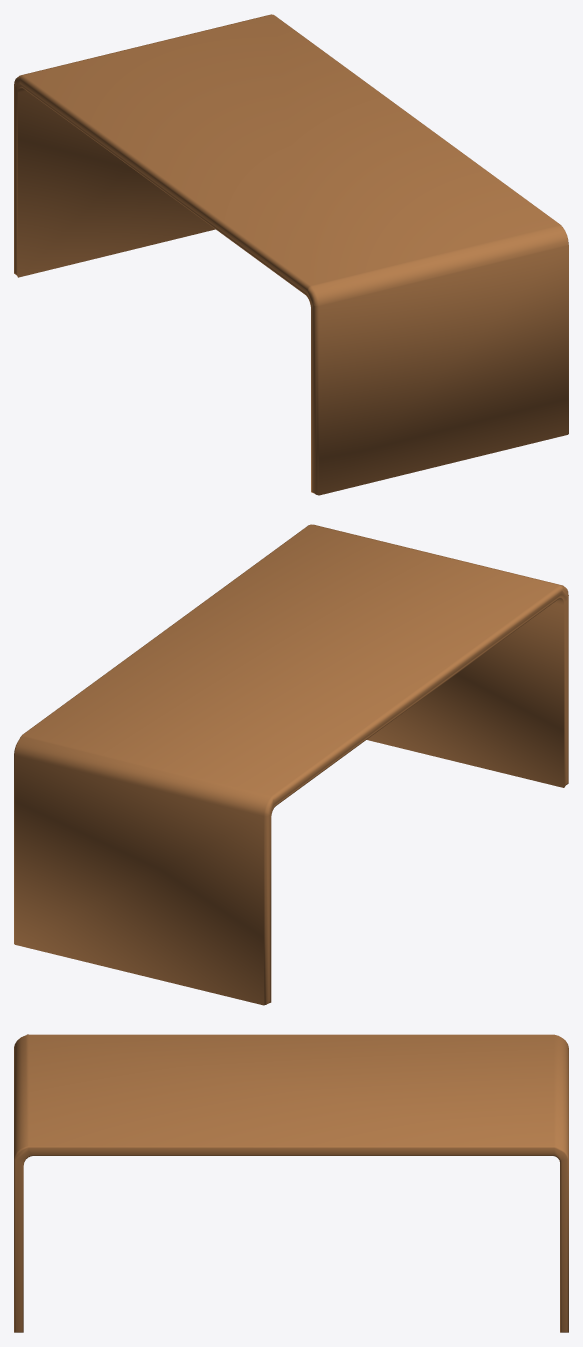
Rendered from ND-0700__Cheval_mesa4.glb.
3 renders of one model, top to bottom at view 1: azimuth 30°, elevation 25°; view 2: azimuth 150°, elevation 25°; view 3: azimuth 270°, elevation 25°, orthographic. The views are drawn at different scales.
Parts seen in each view (by area): view 1: Cube; view 2: Cube; view 3: Cube.
Boxes of the visible parts, <box> form: Cube: <box>14,14,568,495</box>; Cube: <box>14,524,568,1005</box>; Cube: <box>14,1034,568,1332</box>.
Bounding box in the file's own units: 2.9 × 2.22 × 5.98.
